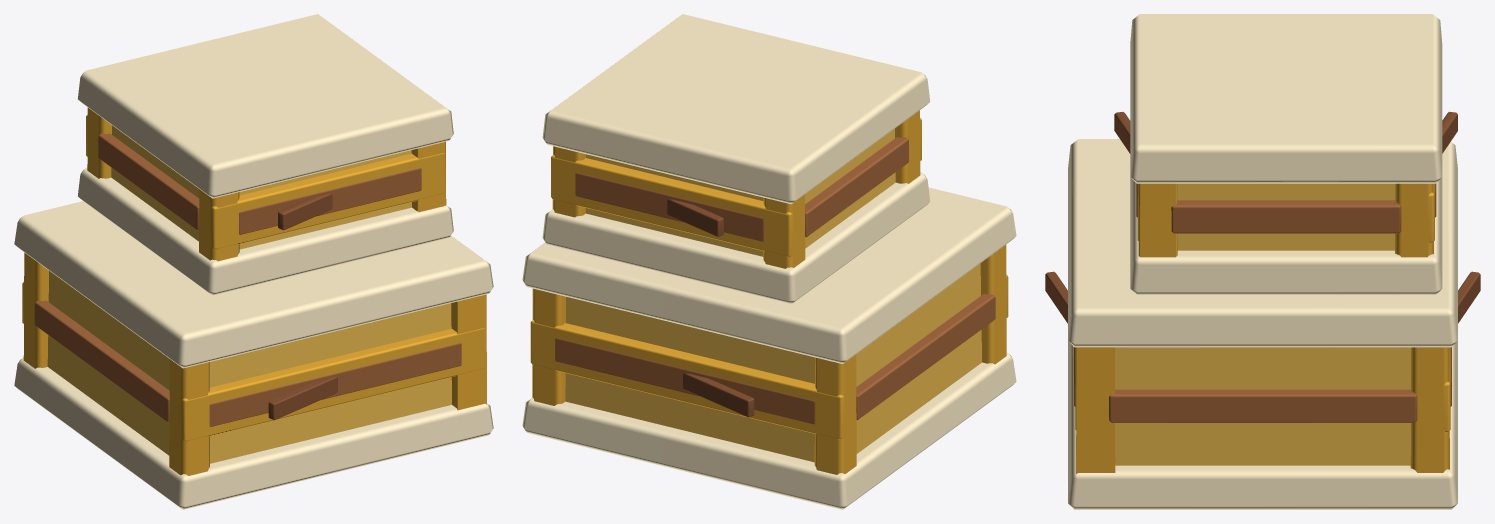
File: pit_box.glb
3 views of the same model, side by side, from view 1: azimuth 30°, elevation 25°; view 2: azimuth 150°, elevation 25°; view 3: azimuth 270°, elevation 25° (orthographic). The views are drawn at different scales.
Parts seen in each view (by area): view 1: pit_box; view 2: pit_box; view 3: pit_box.
Boxes of the visible parts, x1=… form: pit_box: x1=14, y1=14, x2=493, y2=509; pit_box: x1=522, y1=14, x2=1016, y2=509; pit_box: x1=1045, y1=14, x2=1480, y2=509.
Size of the model in its own units: 1.44 by 1.35 by 1.5.
